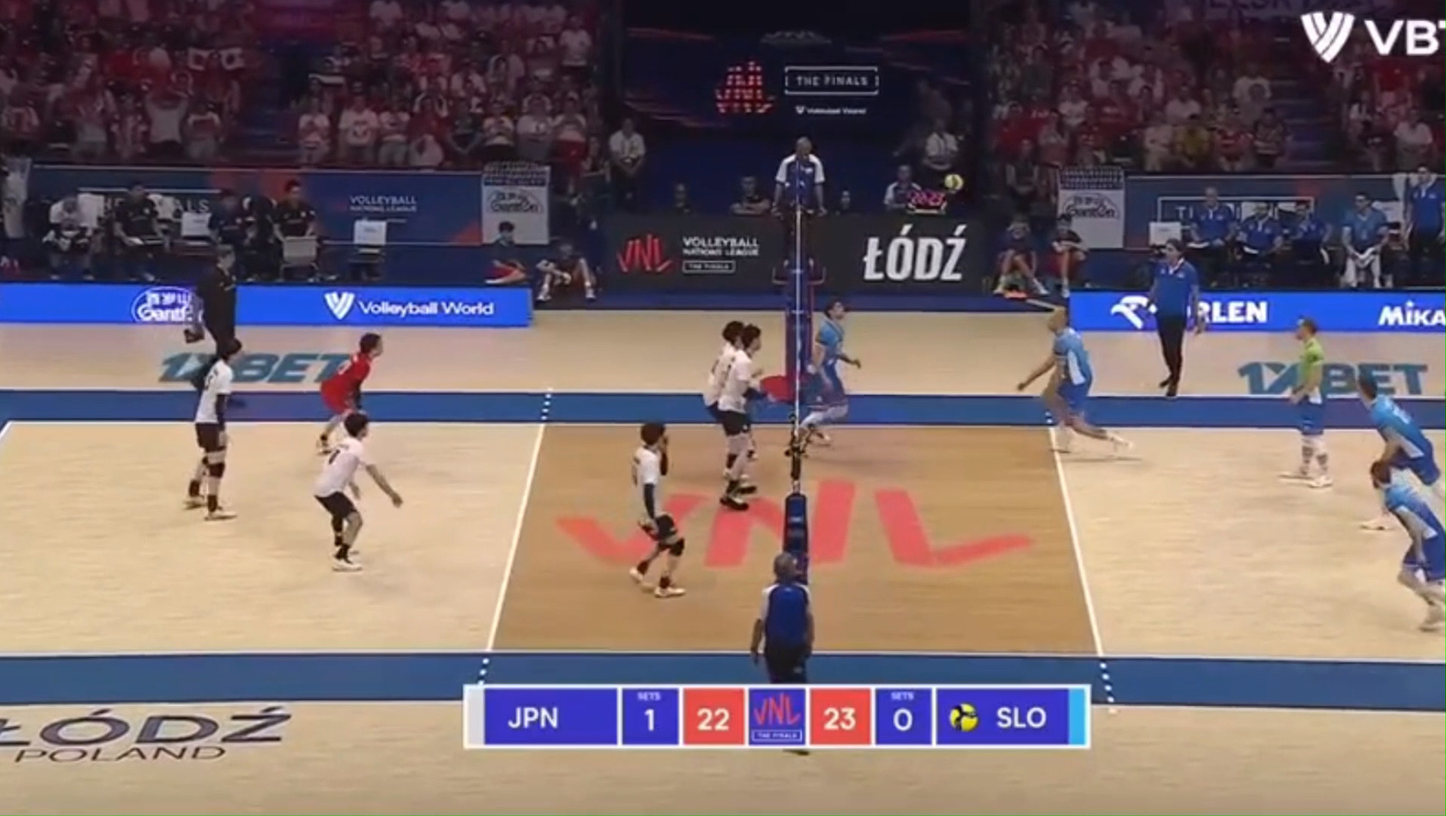ball: (943, 173, 962, 192)
player: (1017, 308, 1127, 452), (1369, 461, 1445, 630), (1356, 374, 1445, 497), (1283, 317, 1333, 488), (802, 301, 860, 447)
player 1: (312, 412, 403, 570), (186, 338, 242, 520), (629, 422, 686, 598), (716, 325, 761, 511), (318, 332, 383, 453), (703, 320, 744, 419)
referee: (749, 552, 814, 684), (184, 245, 241, 391), (773, 138, 827, 286), (1148, 240, 1198, 397)
